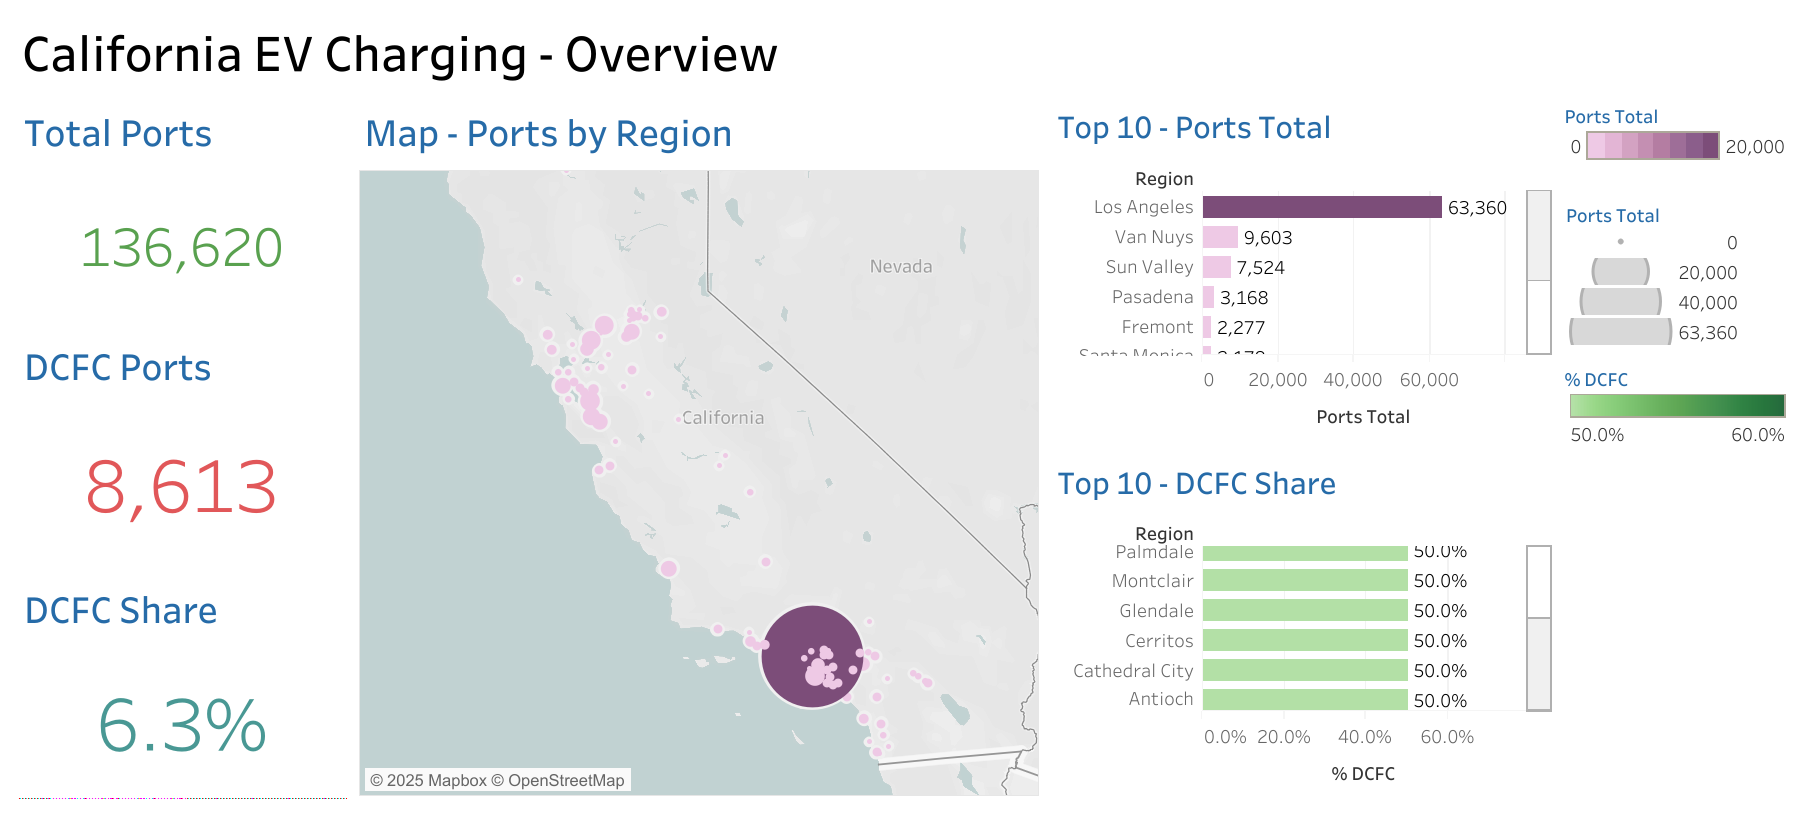

Layout of this report page (visuals, bound fields, positions):
{"tool":"tableau","page":{"name":"California EV Charging Overview","canvas":[1000,1000],"units":"permille","ordinal":0},"visuals":[{"type":"title","box":[7.6,15.4,984.7,100.4]},{"type":"worksheet","title":"KPI - Total Ports","mark":"Text","box":[7.6,115.8,182.9,286.1]},{"type":"worksheet","title":"Map - Ports by Region","mark":"Circle","box":[190.5,115.8,373.6,868.7]},{"type":"worksheet","title":"Top 10 - Ports Total","mark":"Bar","rows":["region"],"cols":["ports_total"],"box":[564.1,115.8,275.7,433.1]},{"type":"legend","title":"Map - Ports by Region","param":"[federated.14c955v1nzg5381ceo9nj077w6n9].[sum:ports_total:qk]","box":[839.8,115.8,152.5,42.5]},{"type":"legend","title":"Map - Ports by Region","param":"[federated.14c955v1nzg5381ceo9nj077w6n9].[sum:ports_total:qk]","box":[839.8,158.3,152.5,42.5]},{"type":"legend","title":"Top 10 - DCFC Share","param":"[federated.14c955v1nzg5381ceo9nj077w6n9].[usr:Calculation_541839390349049856:qk]","box":[839.8,200.8,152.5,42.5]},{"type":"worksheet","title":"KPI - DCFC Ports","mark":"Text","box":[7.6,401.9,182.9,295.2]},{"type":"worksheet","title":"Top 10 - DCFC Share","mark":"Bar","rows":["region"],"cols":["Calculation_541839390349049856"],"box":[564.1,548.9,275.7,435.7]},{"type":"worksheet","title":"KPI - DCFC Share","mark":"Text","box":[7.6,697.2,182.9,287.4]}]}

Visuals, with their boxes on the dashboard's canvas, which has no fixed pixel size, in thousandths of its width and height (x1, y1, x2, y2). These are canvas units, not pixel positions in the 1809x813 screenshot, which may show the page scaled, cropped or inside an application window:
title: 8/15/992/116
"KPI - Total Ports" worksheet (Text marks): 8/116/190/402
"Map - Ports by Region" worksheet (Circle marks): 190/116/564/984
"Top 10 - Ports Total" worksheet (Bar marks): 564/116/840/549
"Map - Ports by Region" legend: 840/116/992/158
"Map - Ports by Region" legend: 840/158/992/201
"Top 10 - DCFC Share" legend: 840/201/992/243
"KPI - DCFC Ports" worksheet (Text marks): 8/402/190/697
"Top 10 - DCFC Share" worksheet (Bar marks): 564/549/840/985
"KPI - DCFC Share" worksheet (Text marks): 8/697/190/985
